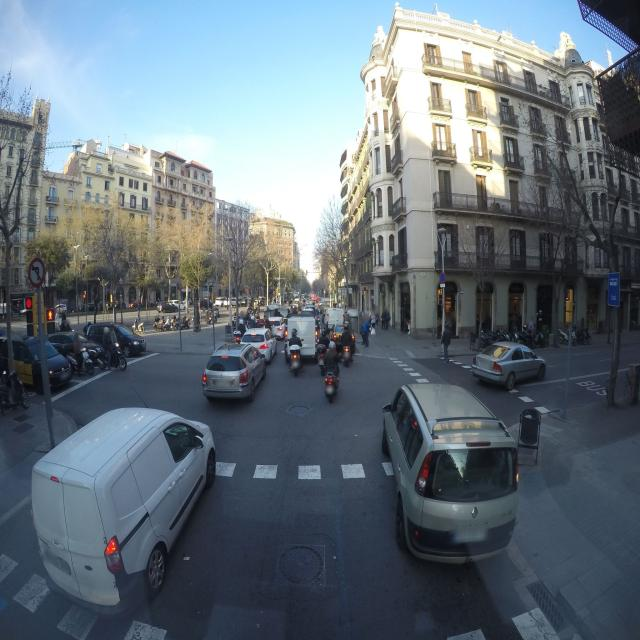bike: (0, 361, 30, 413), (318, 354, 342, 404), (94, 337, 128, 370), (66, 347, 96, 377), (286, 335, 304, 377), (316, 341, 329, 376), (340, 340, 354, 368)
car: (379, 382, 519, 562), (201, 343, 267, 404), (0, 336, 72, 391), (471, 342, 547, 391), (78, 321, 147, 361), (46, 332, 94, 376), (284, 310, 320, 362), (241, 328, 277, 363), (268, 317, 286, 341)
